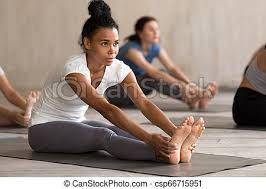person: (51, 10, 147, 121)
